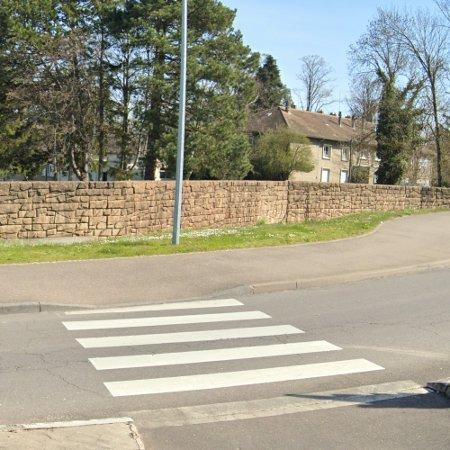crosswalks: (60, 297, 394, 399)
